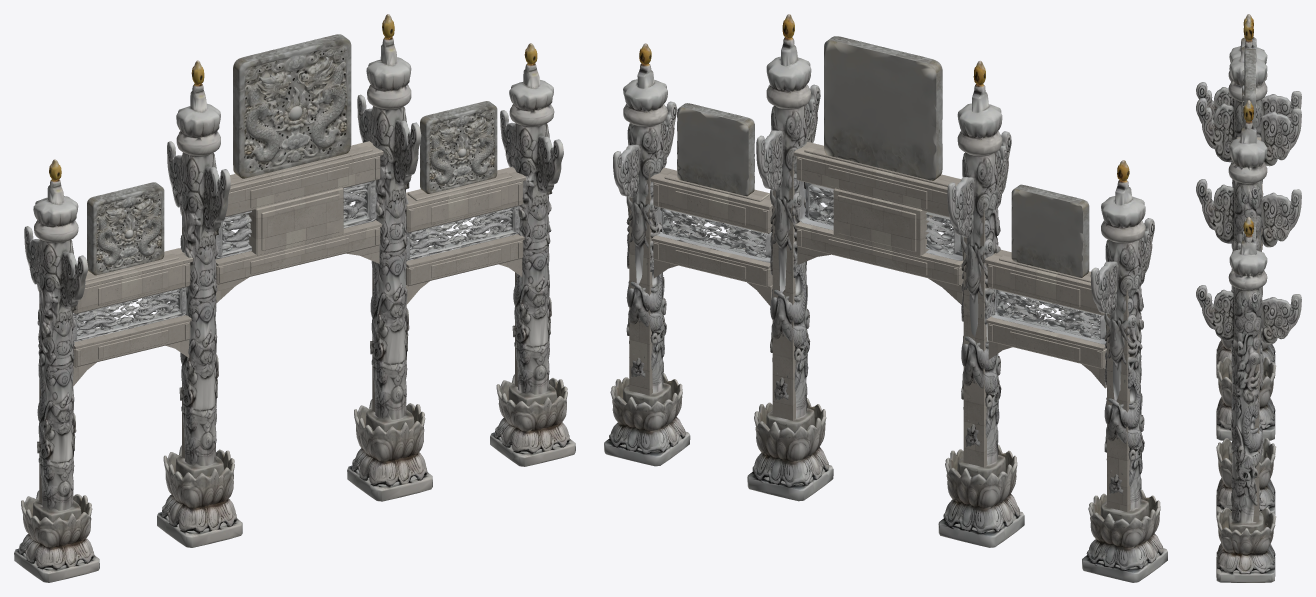
Rendered from paifang.glb.
3 views of the same model, side by side, from view 1: azimuth 30°, elevation 25°; view 2: azimuth 150°, elevation 25°; view 3: azimuth 270°, elevation 25° (orthographic). The views are drawn at different scales.
Visible parts, largest first — view 1: 柱-7.0, 白玉, pf_ding_1, pf_hua_0; view 2: 柱-7.0, 白玉, pf_ding_1, pf_hua_0; view 3: 柱-7.0, pf_ding_1, 白玉.
Boxes of the visible parts, bbox=[...] form: 柱-7.0: bbox=[14, 14, 575, 582]; 白玉: bbox=[39, 141, 526, 502]; pf_ding_1: bbox=[87, 34, 497, 275]; pf_hua_0: bbox=[72, 180, 519, 341]; 柱-7.0: bbox=[604, 14, 1167, 582]; 白玉: bbox=[629, 142, 1130, 512]; pf_ding_1: bbox=[677, 36, 1089, 277]; pf_hua_0: bbox=[656, 181, 1106, 344]; 柱-7.0: bbox=[1196, 14, 1301, 582]; pf_ding_1: bbox=[1242, 49, 1255, 241]; 白玉: bbox=[1236, 137, 1262, 522].
Size of the model in its own units: 1.19 by 0.9999 by 0.234.
Materials: 4 (4 with a texture image).
